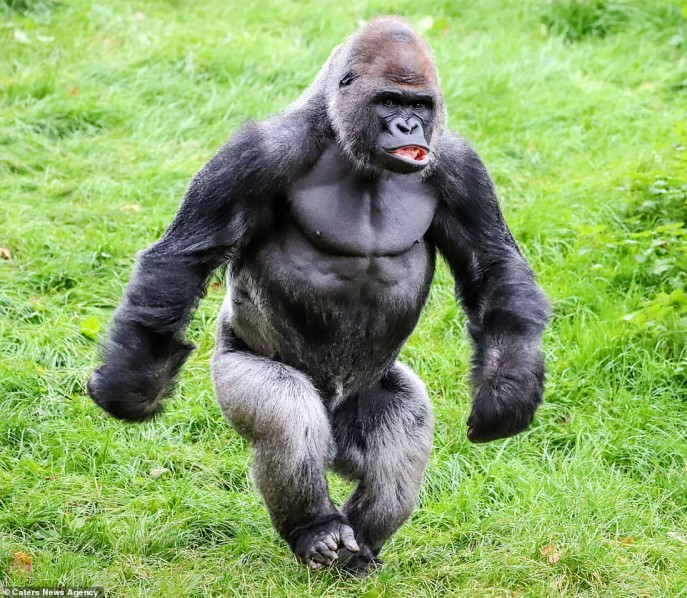Gorilla: (95, 1, 555, 570)
